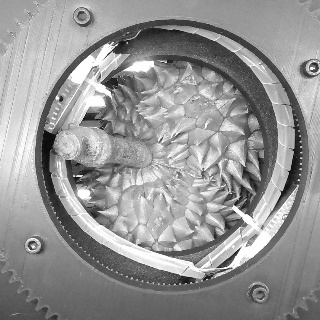base: (123, 135, 156, 171)
end: (53, 130, 81, 160)
